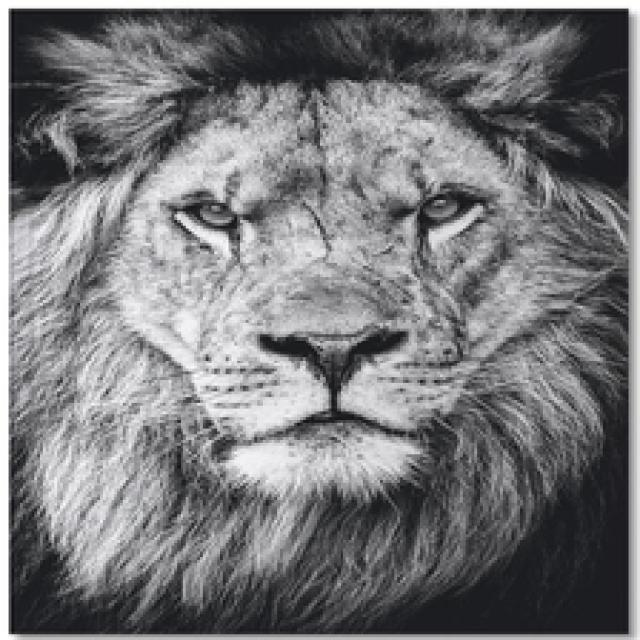lion: (31, 3, 622, 629)
